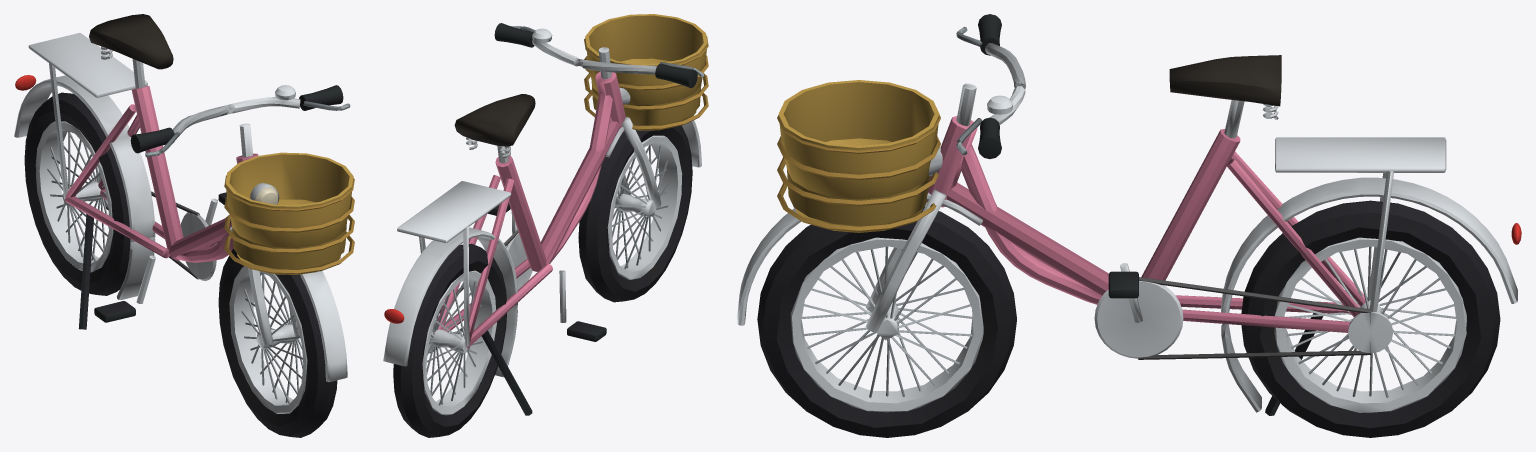
The model's file is veh-miniBike.glb.
3 views of the same model, side by side, from view 1: azimuth 30°, elevation 25°; view 2: azimuth 150°, elevation 25°; view 3: azimuth 270°, elevation 25° (orthographic). The views are drawn at different scales.
Visible parts, largest first — view 1: body, wheel0, wheel1; view 2: body, wheel0, wheel1; view 3: body, wheel1, wheel0.
Boxes of the visible parts, box(x1,y1,x2,y2) form: body: box(14, 14, 354, 382); wheel0: box(218, 248, 337, 437); wheel1: box(24, 92, 130, 295); body: box(383, 14, 708, 415); wheel0: box(578, 125, 692, 302); wheel1: box(393, 243, 506, 437); body: box(737, 14, 1521, 415); wheel1: box(1241, 200, 1500, 437); wheel0: box(757, 207, 1016, 437).
Bounding box in the file's own units: 0.59 × 0.8223 × 1.56.
